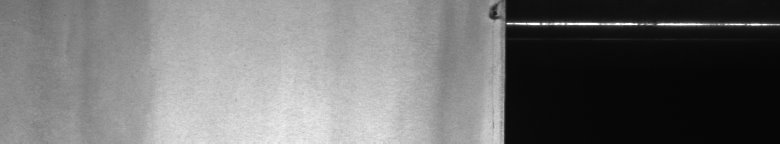hb: (482, 4, 492, 25)
